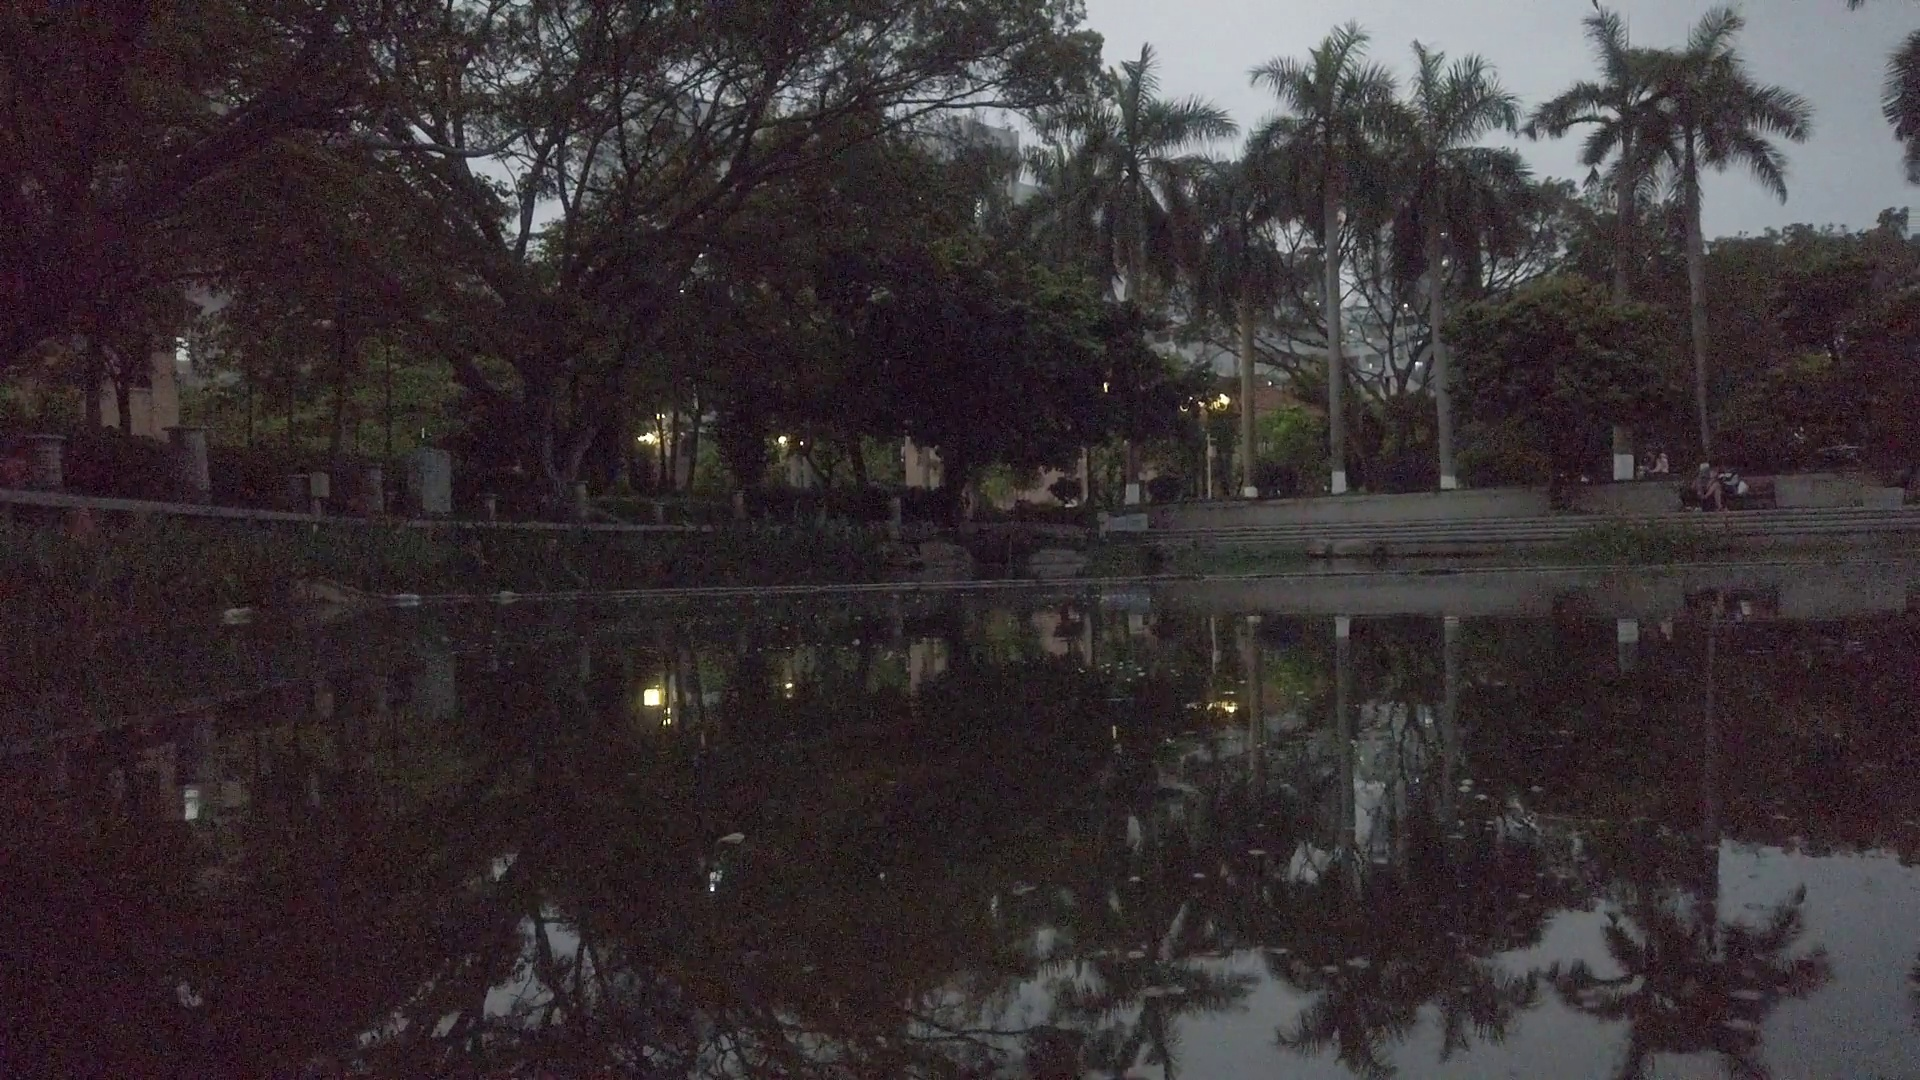bottle: (225, 605, 253, 625), (392, 592, 423, 607), (496, 588, 524, 603)
